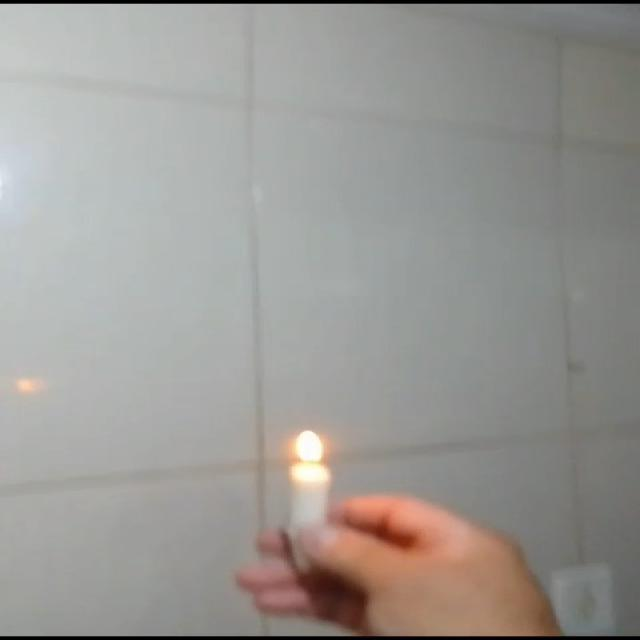fogo-ypXI: (288, 428, 329, 465)
